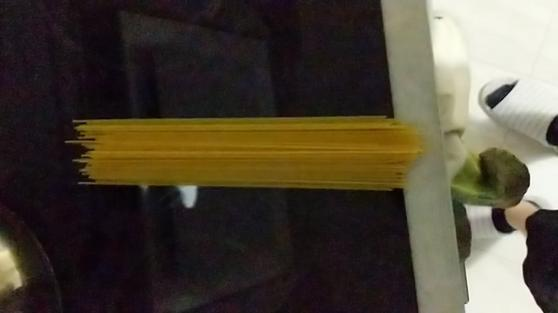spaghetti: (62, 98, 424, 196)
